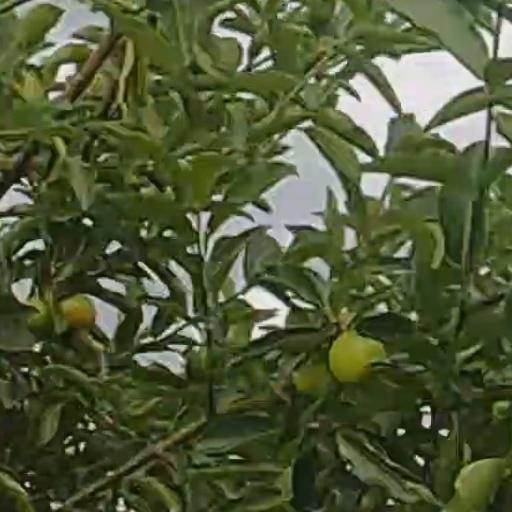acerola_verde: (333, 334, 379, 382)
acerola_vermelha: (60, 293, 96, 329)
